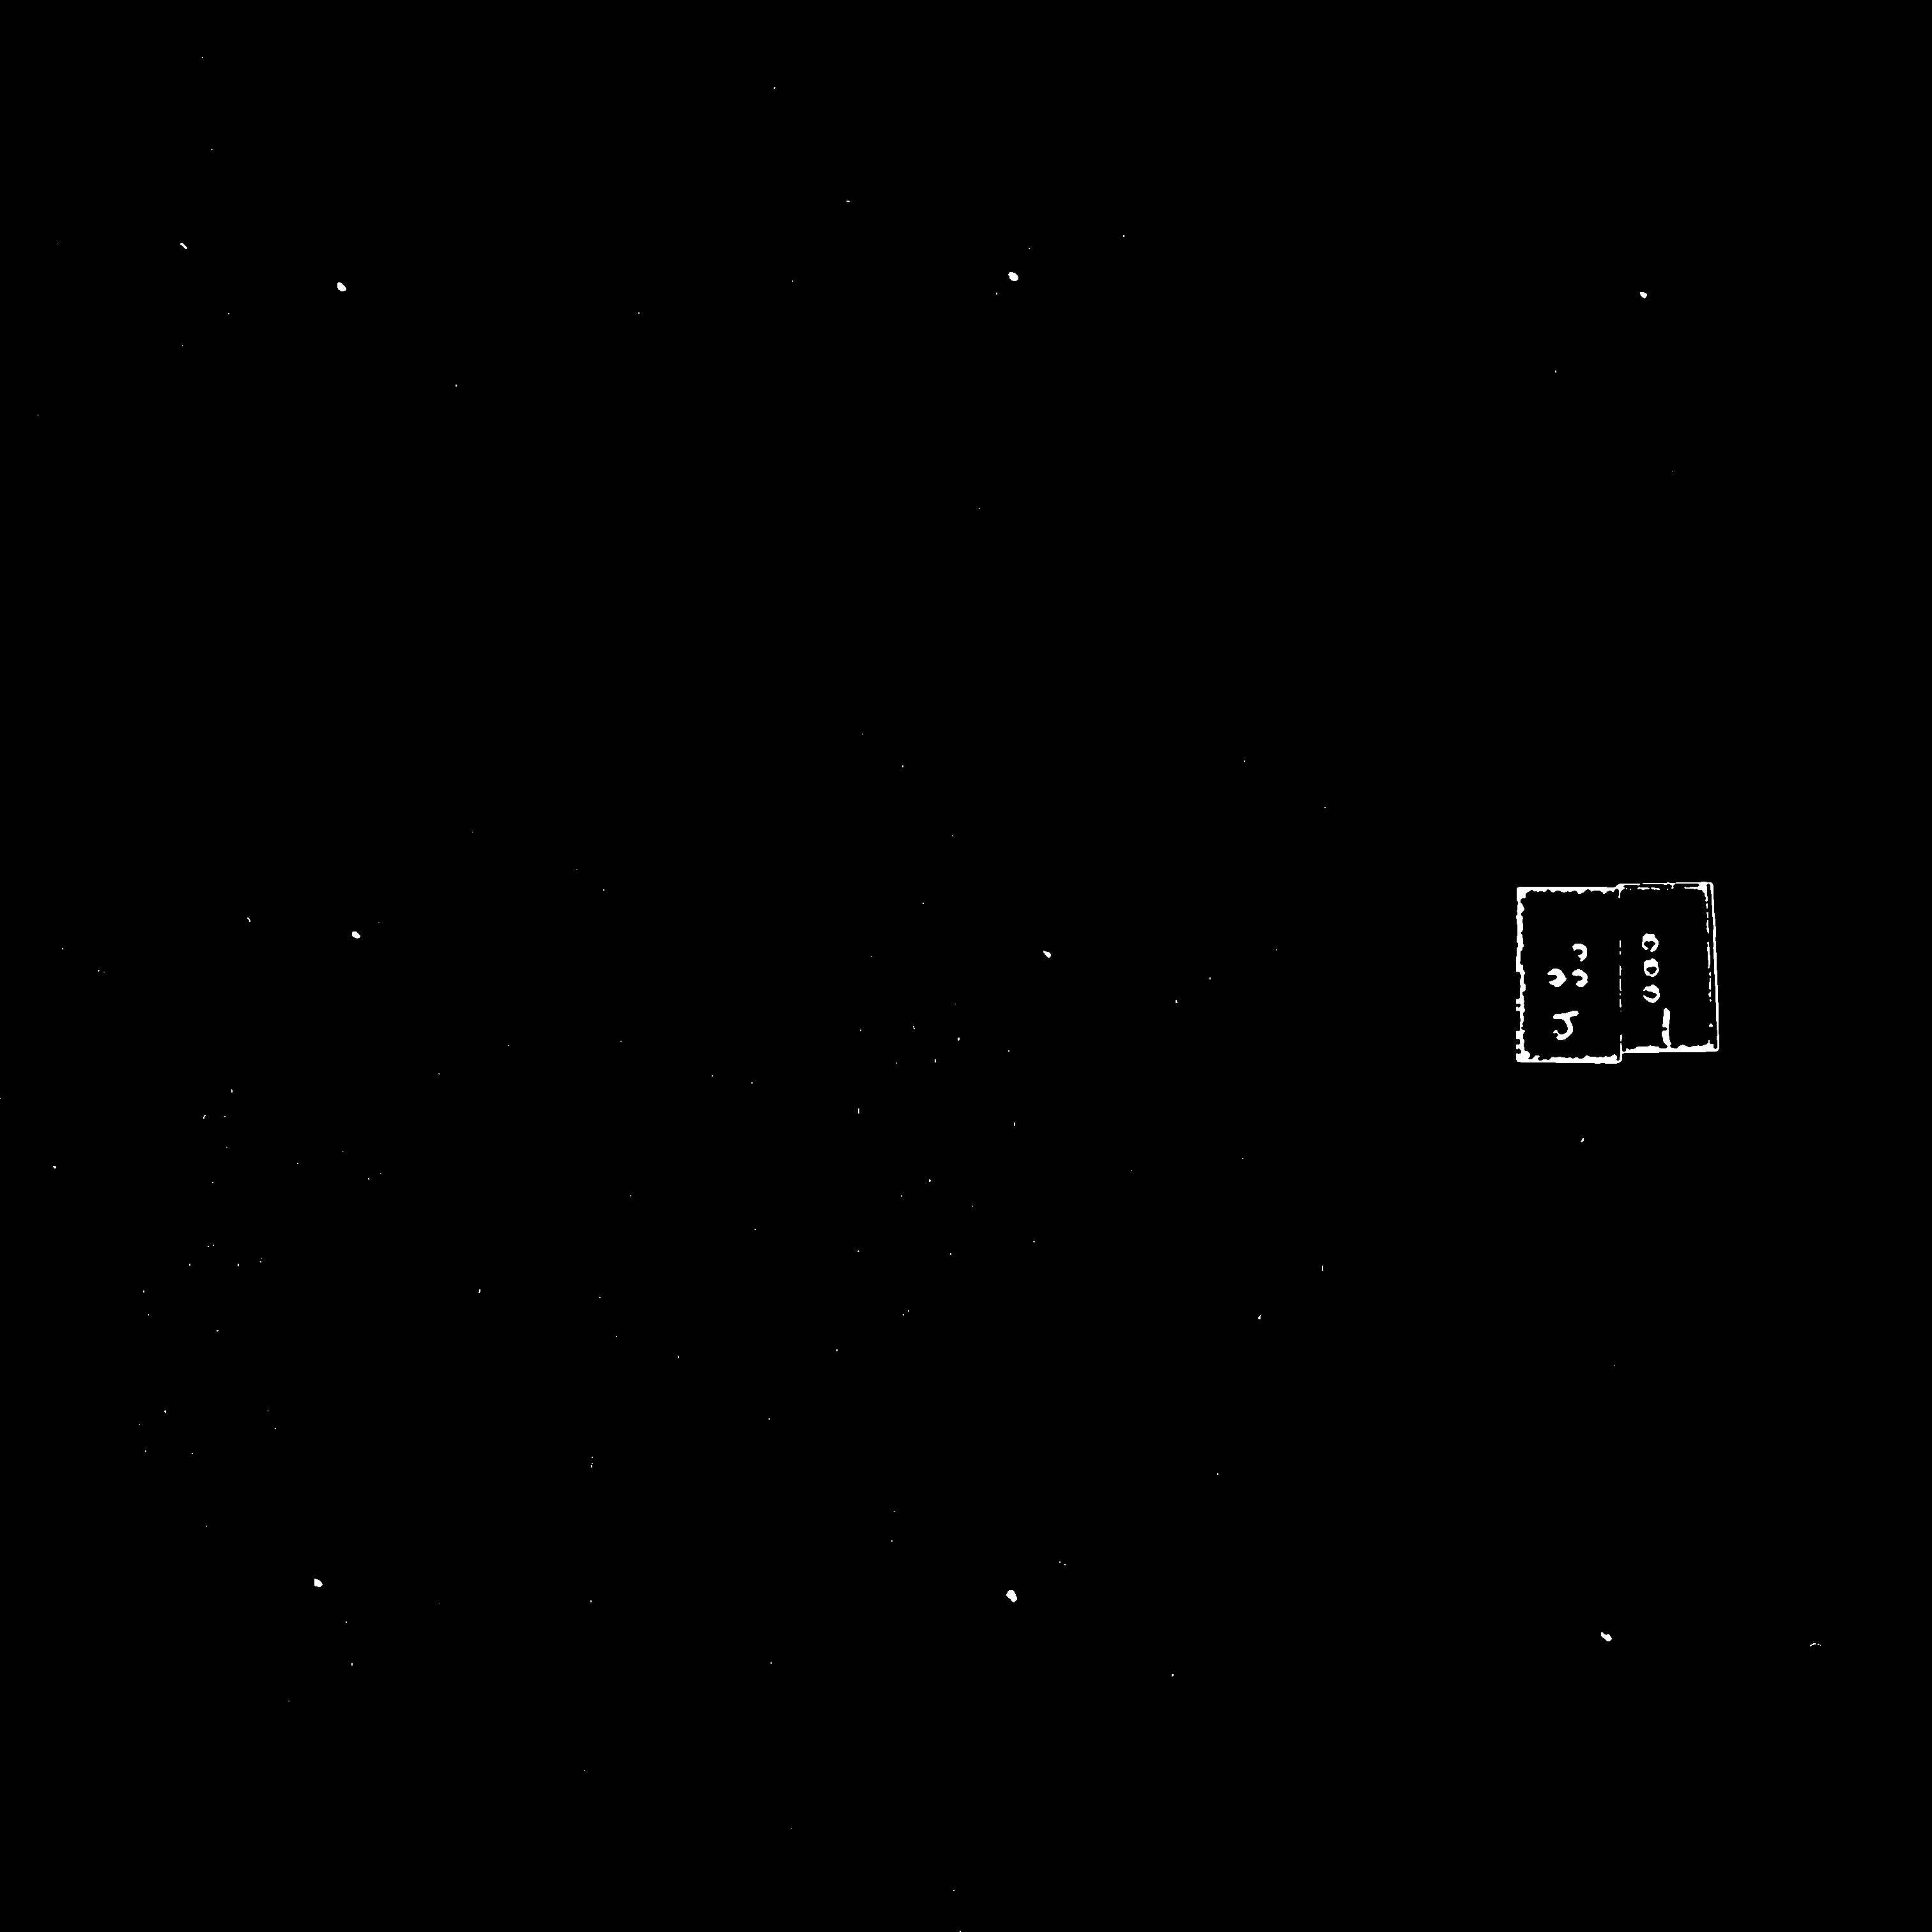j: (1538, 936, 1593, 1020)
l: (1627, 916, 1699, 1009)
